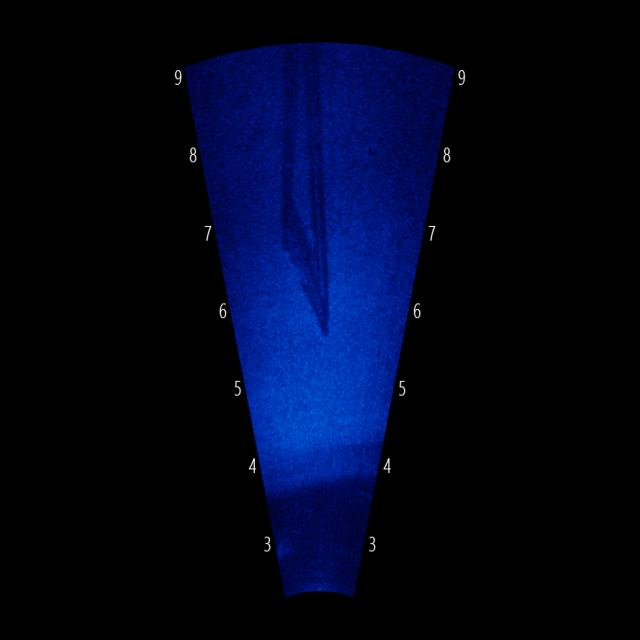triangle: (260, 34, 347, 358)
